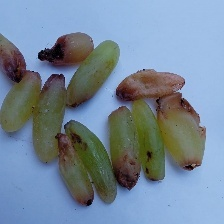grapes: (23, 0, 197, 185)
